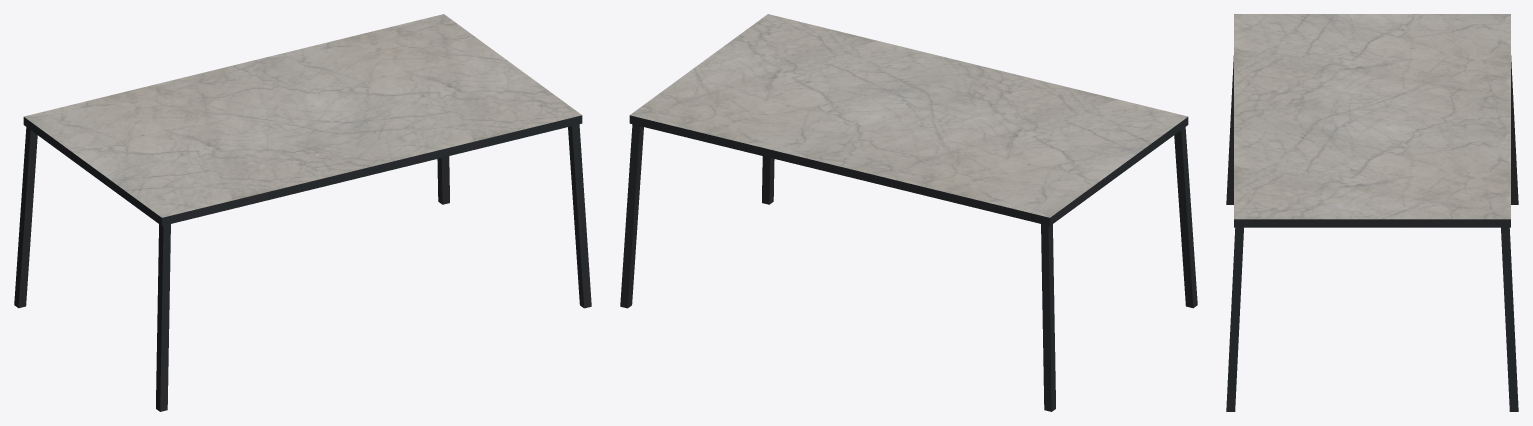
The model's file is Table_09-col.glb.
3 views of the same model, side by side, from view 1: azimuth 30°, elevation 25°; view 2: azimuth 150°, elevation 25°; view 3: azimuth 270°, elevation 25° (orthographic).
Visible parts, largest first — view 1: Table_09-col; view 2: Table_09-col; view 3: Table_09-col.
Part boxes in pixels (x1,y1,x2,y2): Table_09-col: (14,14,591,411); Table_09-col: (620,14,1197,411); Table_09-col: (1226,14,1518,411).
Size of the model in its own units: 1.7 by 0.7156 by 0.9967.
Materials: 2 (2 with a texture image).
